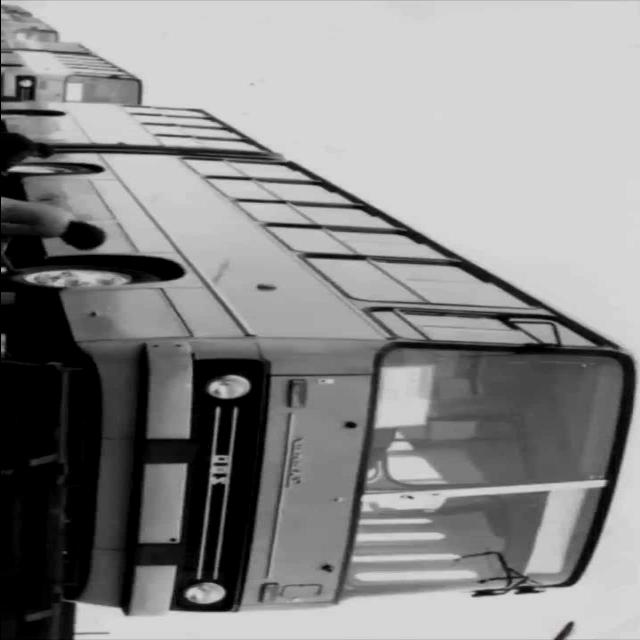bus: (1, 103, 637, 621), (1, 39, 155, 103)
